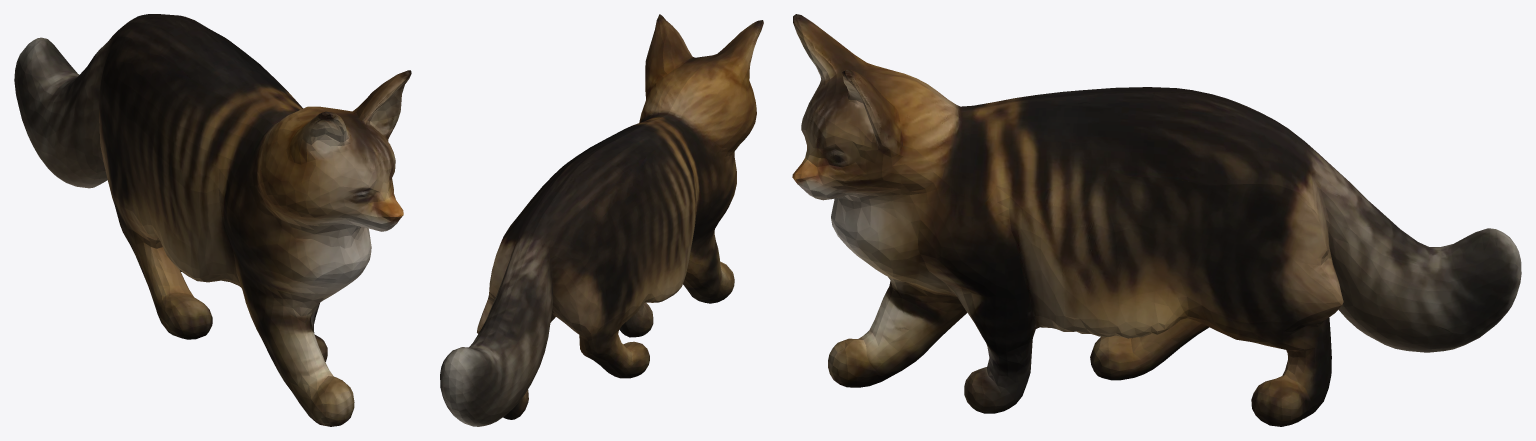
The picture shows the model from 3 angles, left to right: view 1: azimuth 30°, elevation 25°; view 2: azimuth 150°, elevation 25°; view 3: azimuth 270°, elevation 25°; orthographic projection. The views are drawn at different scales.
Visible parts, largest first — view 1: geometry_0; view 2: geometry_0; view 3: geometry_0.
Part boxes in pixels (bbox=[...]): geometry_0: bbox=[14, 14, 411, 426]; geometry_0: bbox=[440, 14, 763, 426]; geometry_0: bbox=[792, 14, 1521, 426].
Size of the model in its own units: 0.2283 by 0.5469 by 0.9973.
1 material, 1 textured.
